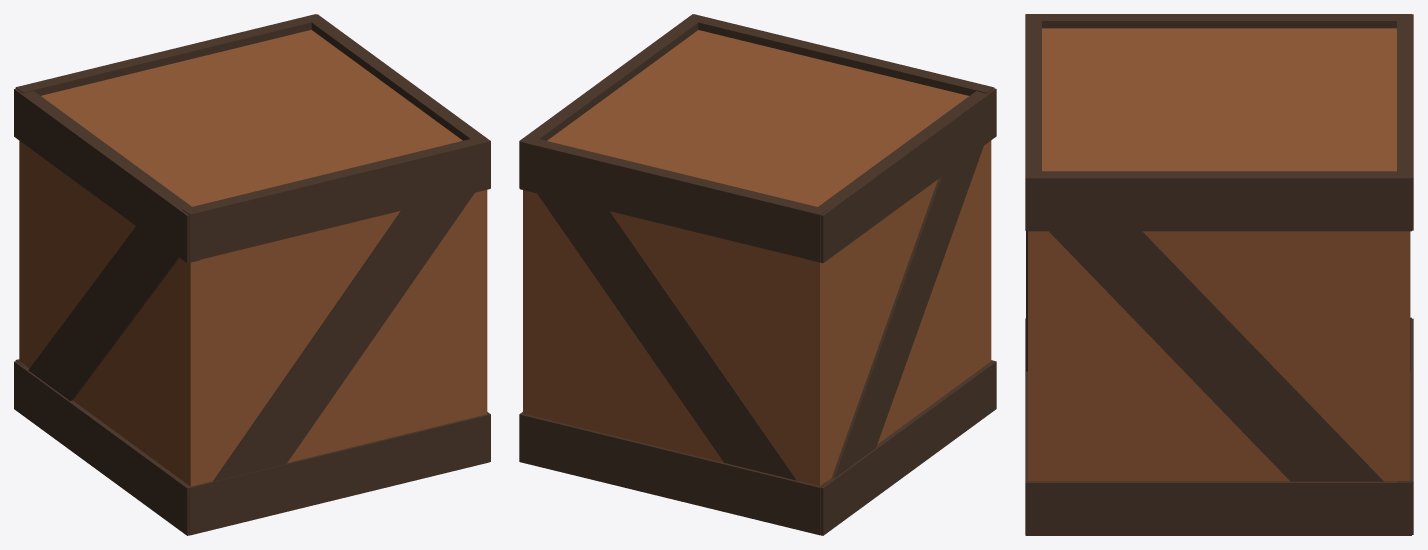
File: WoodBox.fbx
3 views of the same model, side by side, from view 1: azimuth 30°, elevation 25°; view 2: azimuth 150°, elevation 25°; view 3: azimuth 270°, elevation 25° (orthographic). The views are drawn at different scales.
Parts seen in each view (by area): view 1: Cube; view 2: Cube; view 3: Cube.
Part boxes in pixels (x1,y1,x2,y2): Cube: (14,14,490,535); Cube: (519,14,996,535); Cube: (1025,14,1413,535).
Size of the model in its own units: 205 by 207 by 203.
